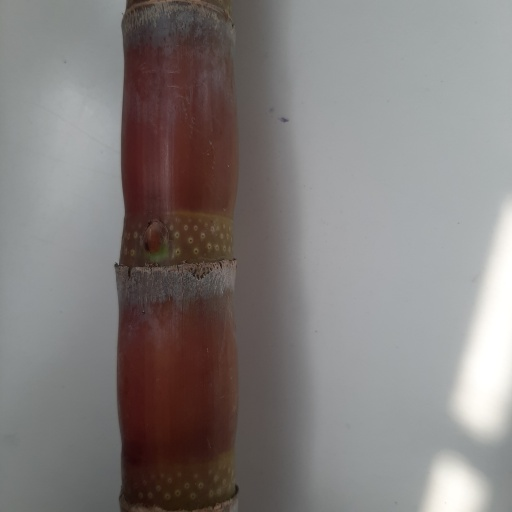Bud: (141, 219, 171, 256)
